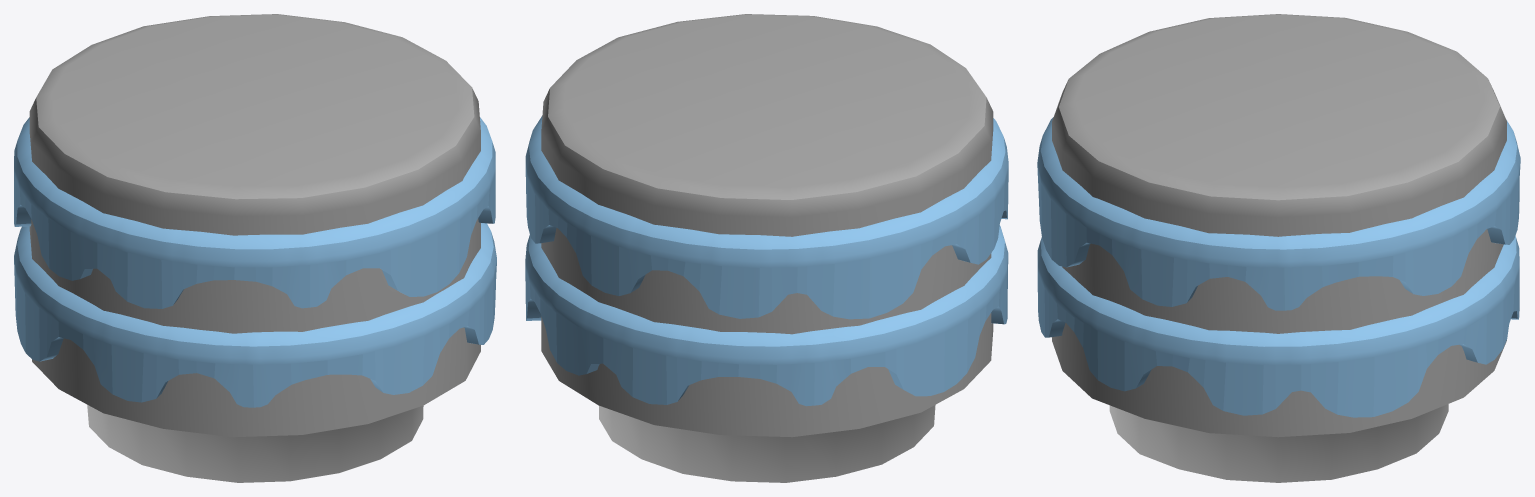
Rendered from torre 3.fbx.
3 views of the same model, side by side, from view 1: azimuth 30°, elevation 25°; view 2: azimuth 150°, elevation 25°; view 3: azimuth 270°, elevation 25° (orthographic).
Parts seen in each view (by area): view 1: pCylinder103; view 2: pCylinder103; view 3: pCylinder103.
Part boxes in pixels (x1,y1,x2,y2): pCylinder103: (14,14,496,482); pCylinder103: (525,14,1008,482); pCylinder103: (1037,14,1520,482).
Size of the model in its own units: 106 by 75.4 by 106.
